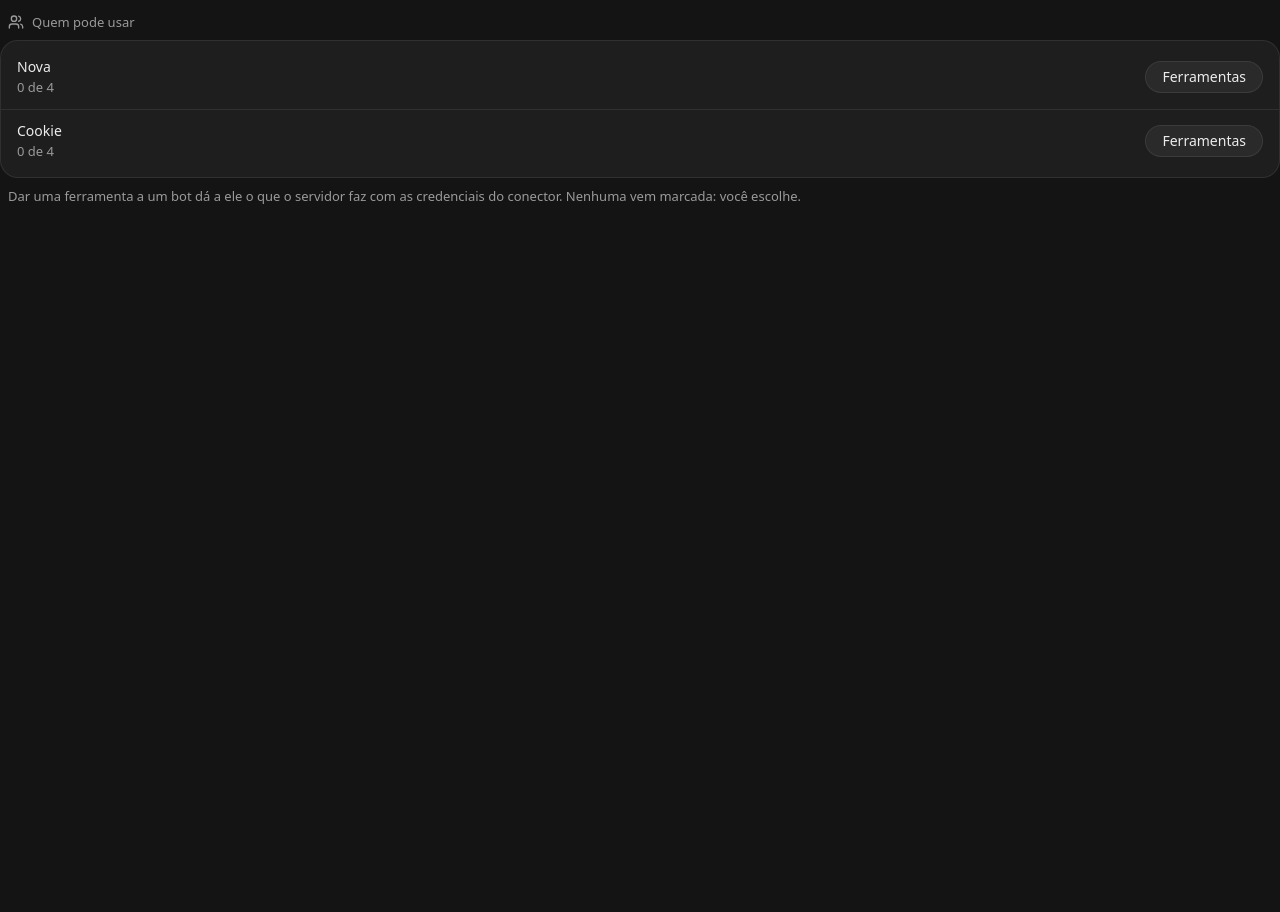
Test: per-tool grants of a connector › a bot with no grant shows '0 de 3', nothing ticked, and the row opens to its tools
The image size is (1280, 912).
Expected: the element with test id "grant-row" shows "0 de 4", x1=17 y1=78 x2=54 y2=96
Click the button with aria-label "Nova" at (1204, 77), box x1=1145 y1=61 x2=1263 y2=93
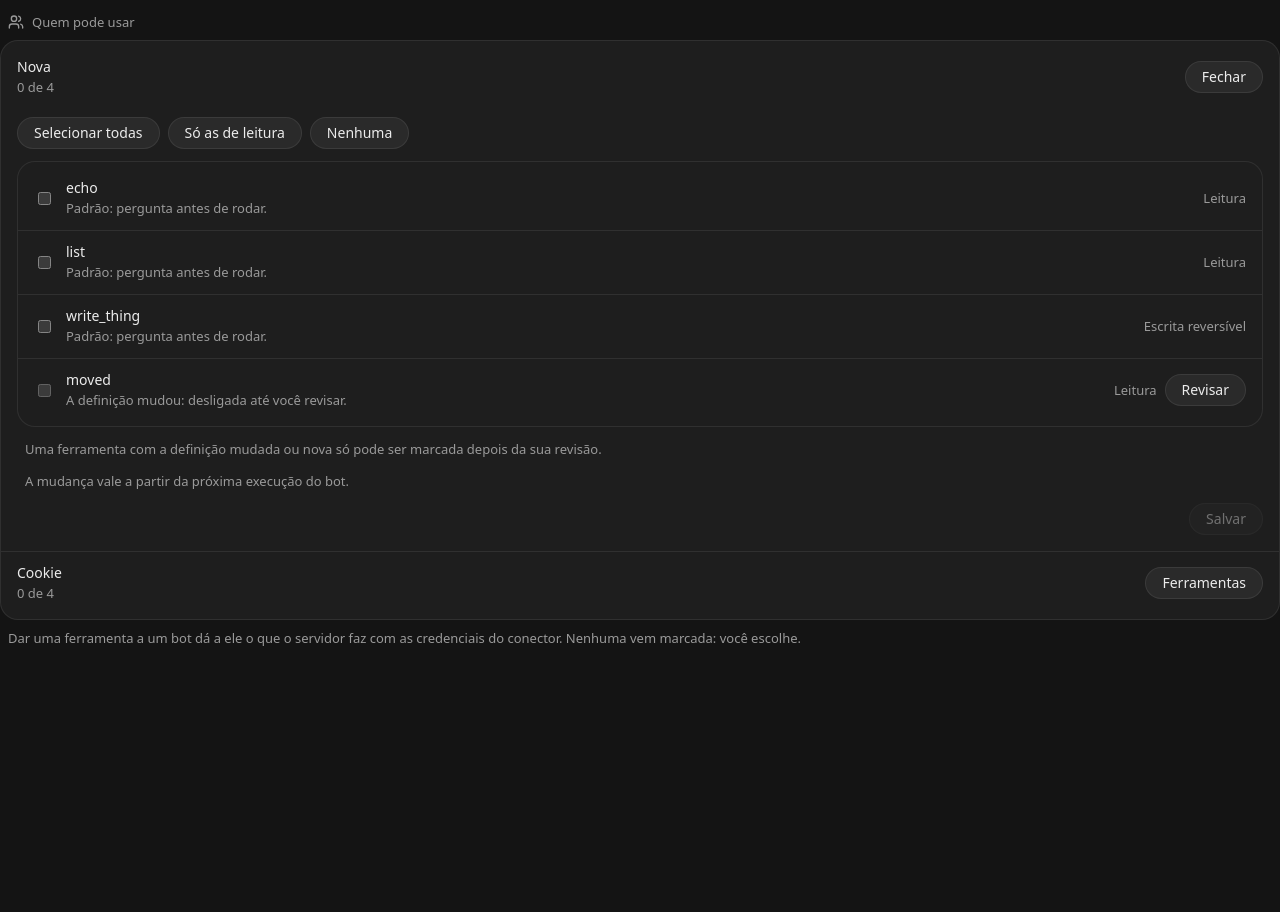
Expected: the checkbox labelled "echo" is not checked, x1=38 y1=192 x2=51 y2=204
Expected: the checkbox labelled "list" is not checked, x1=38 y1=256 x2=51 y2=268
Expected: the checkbox labelled "write_thing" is not checked, x1=38 y1=320 x2=51 y2=332
